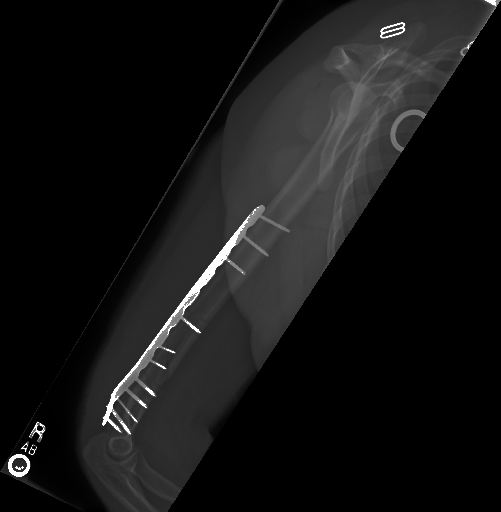implant: (101, 198, 295, 437), (378, 16, 409, 44)
